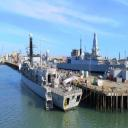Fragata: (19, 35, 85, 113)
